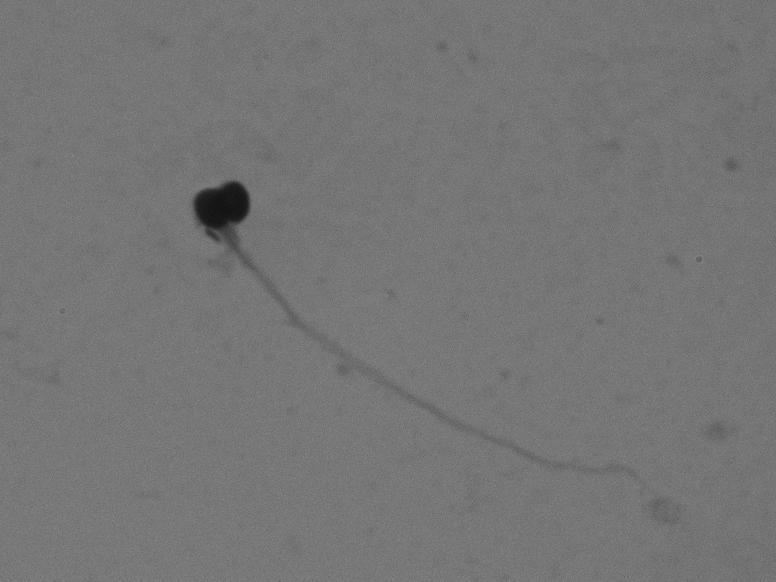Abnormal: (126, 163, 674, 513)
